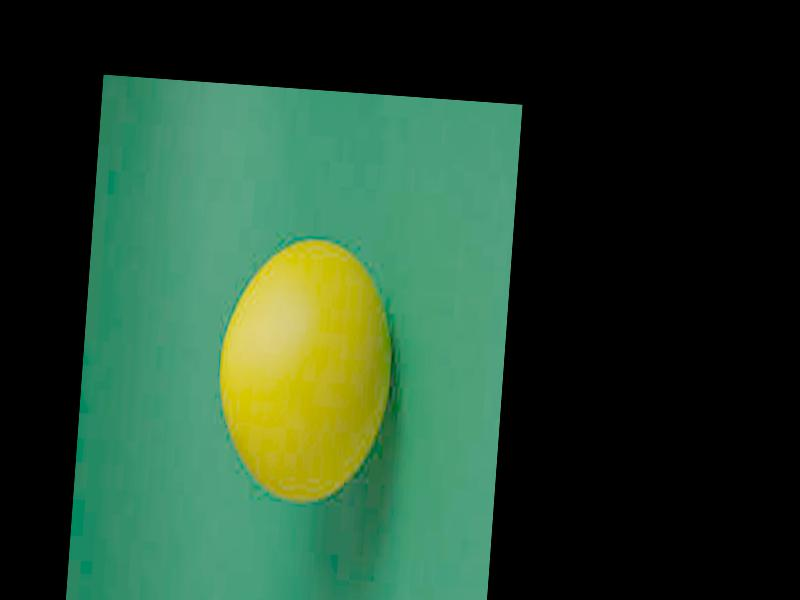Eggs: (210, 230, 401, 499)
